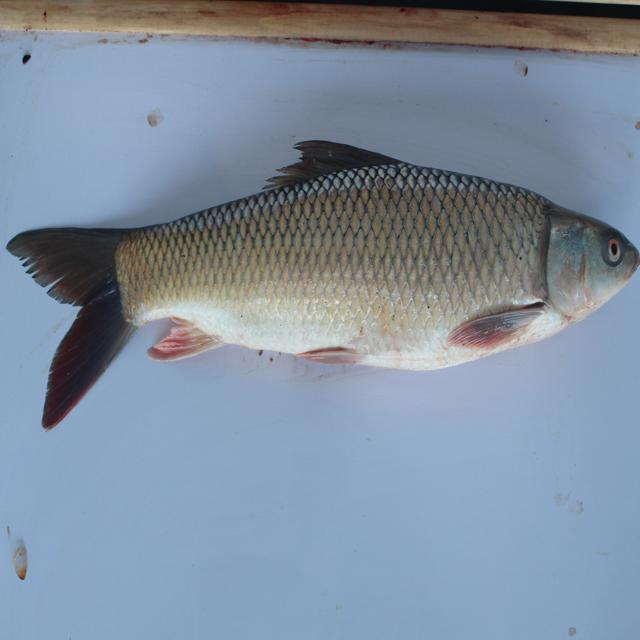Mori: (7, 133, 640, 436)
